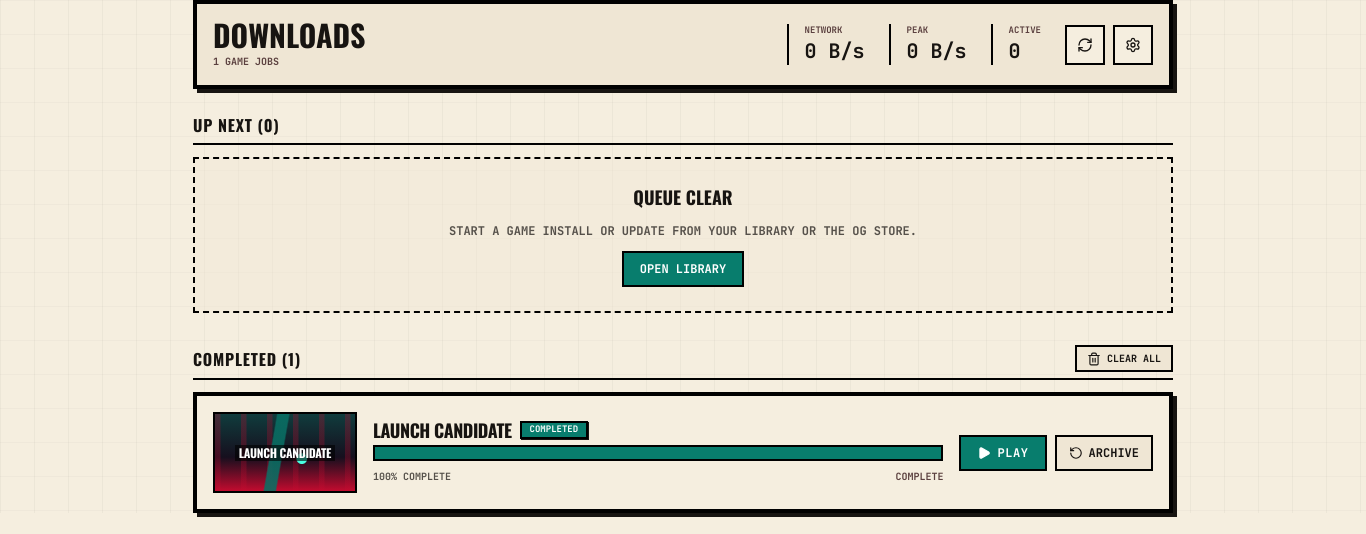
Test: DownloadsPage › disables clear-all while a completed game command is pending
What coordinates should you click on to do the following:
click the button "Play"
I would click on:
 (1003, 452)
Its box is 959,434 -> 1047,470.
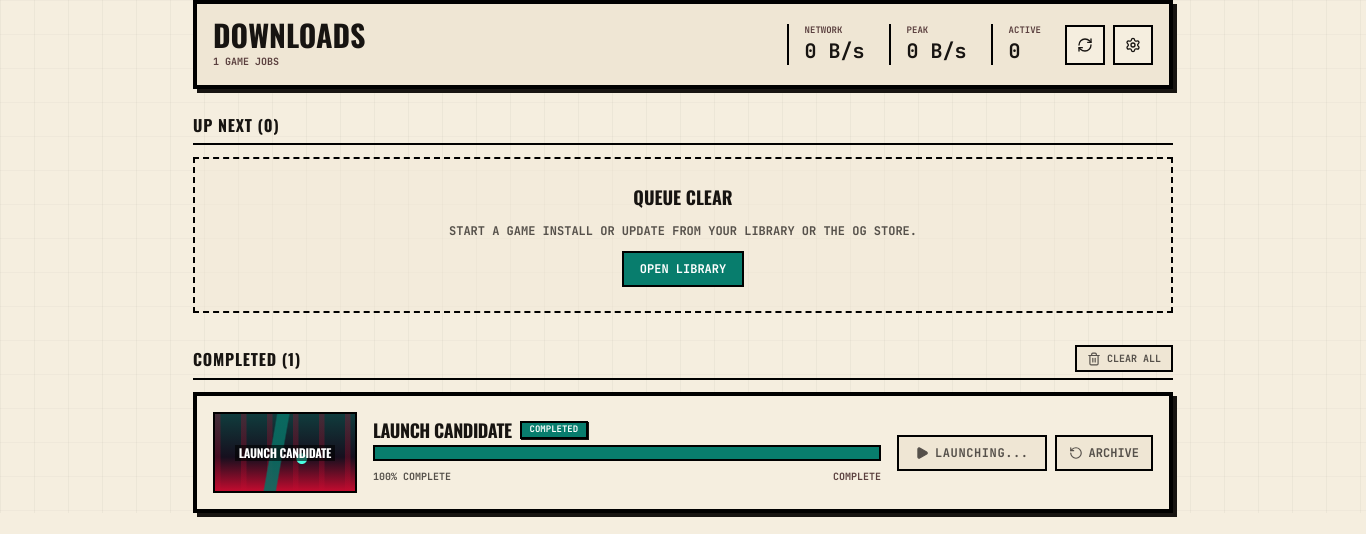
Expected: the button named "Play" is disabled, 897,434 -> 1047,470
Expected: the button "Archive" is disabled, 1055,434 -> 1153,470
Expected: the button "Clear All" is disabled
What coordinates should you click on to do the following:
click the button "Clear All"
I would click on:
 (1124, 358)
Its box is 1075,345 -> 1173,372.
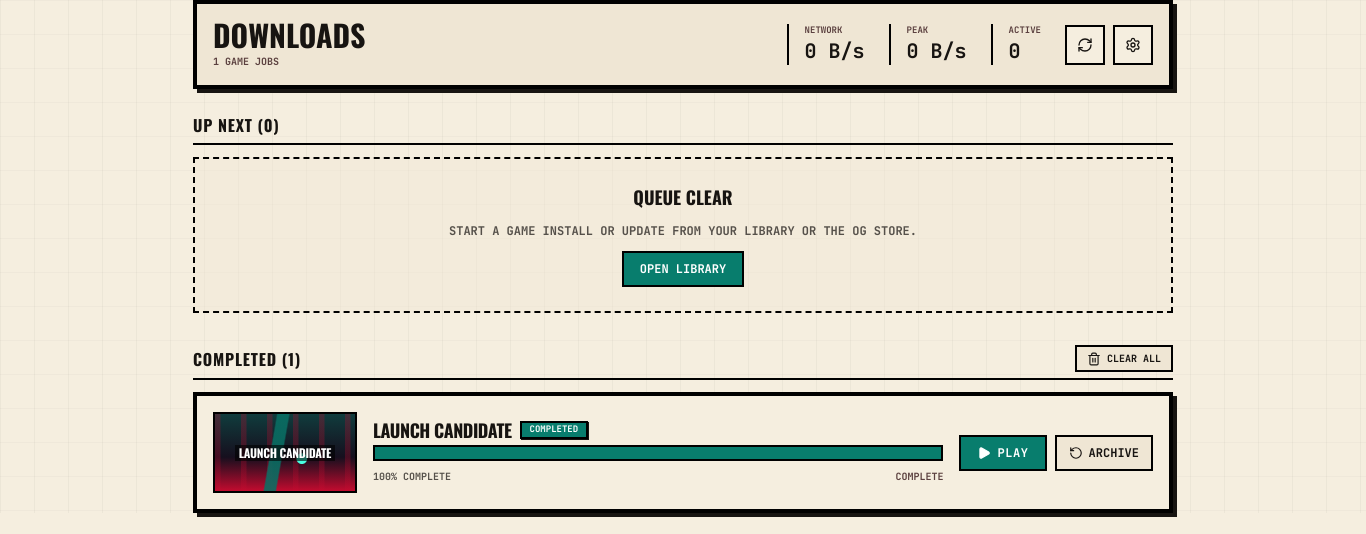
Expected: the button "Clear All" is enabled, 1075,345 -> 1173,372
